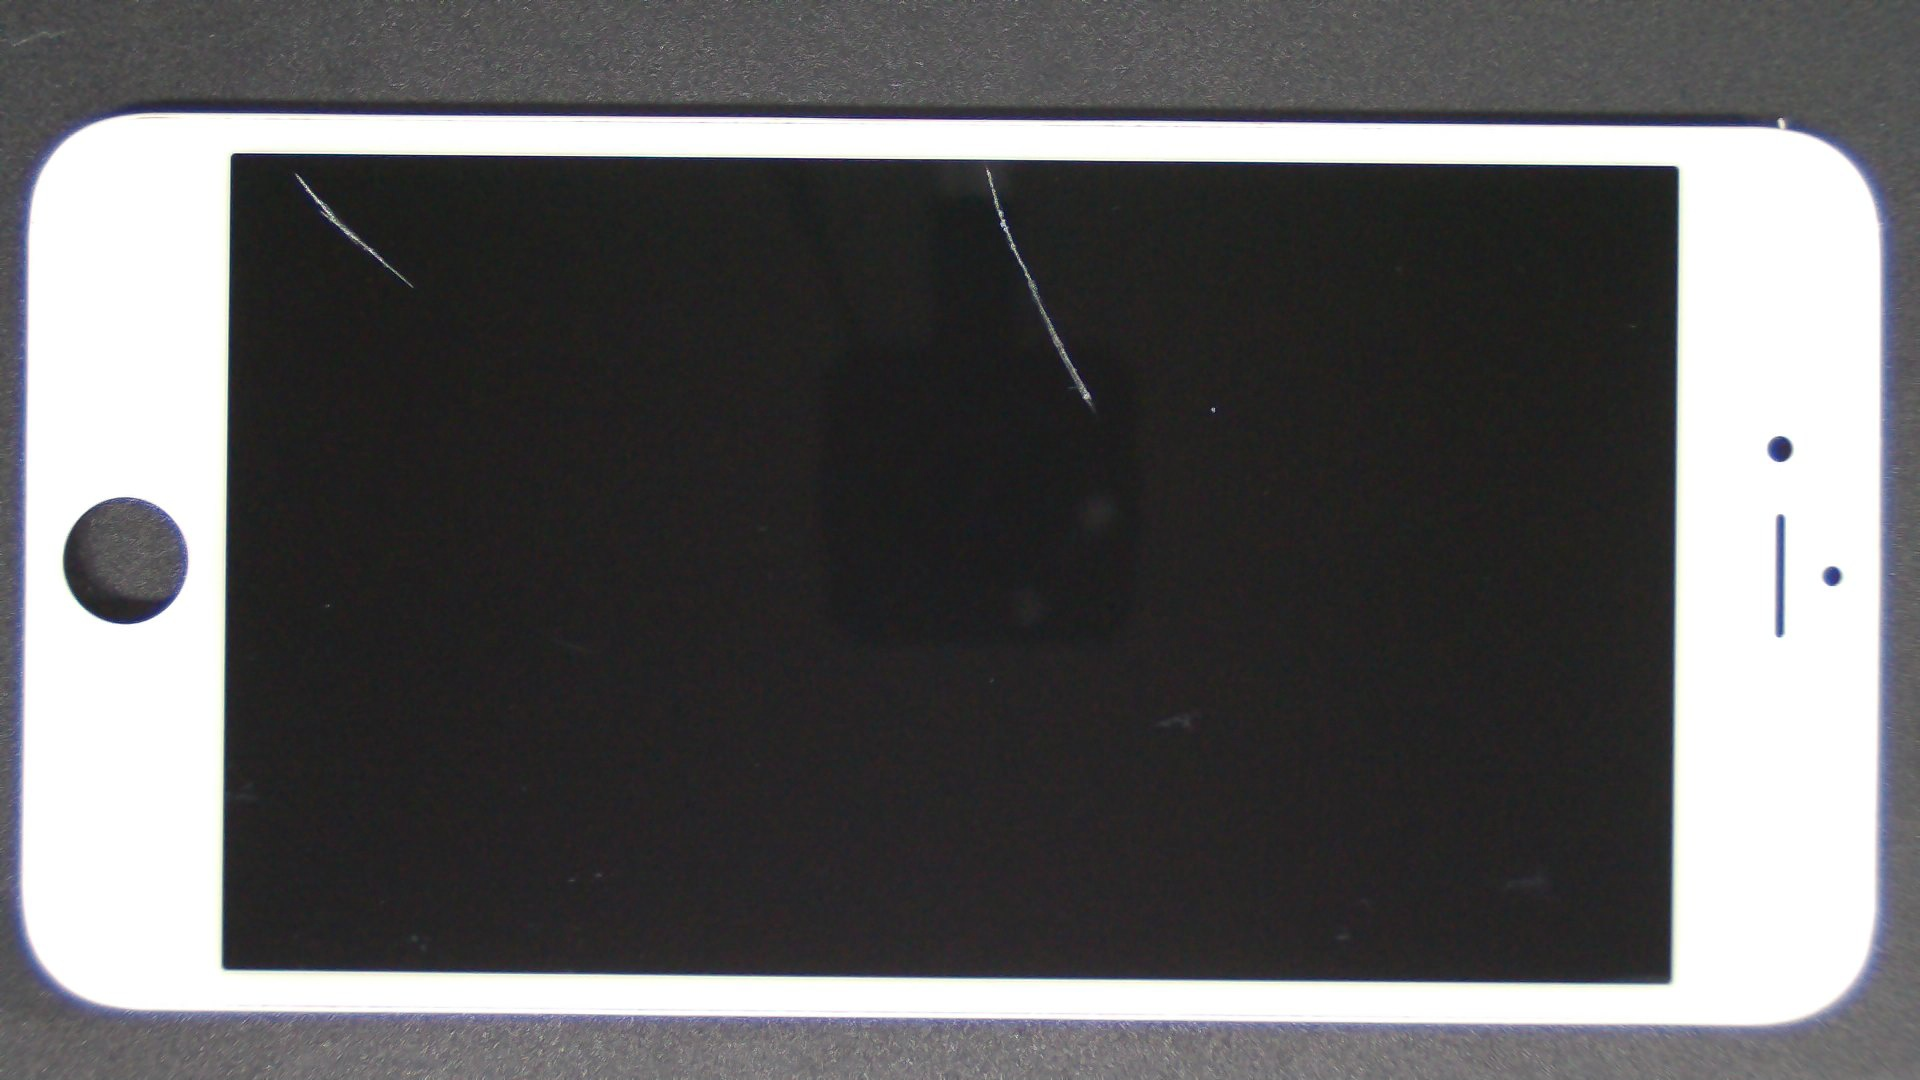oil: (492, 80, 1476, 251), (146, 84, 439, 257)
